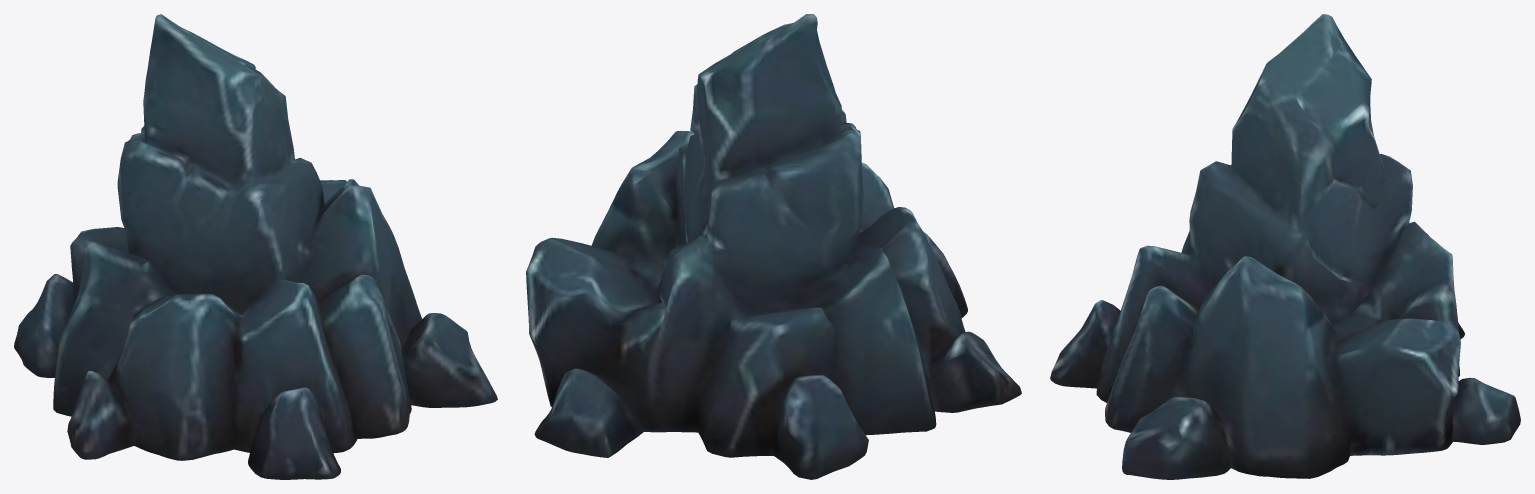
The model's file is sp_rock.glb.
3 renders of one model, left to right at view 1: azimuth 30°, elevation 25°; view 2: azimuth 150°, elevation 25°; view 3: azimuth 270°, elevation 25°, orthographic. The views are drawn at different scales.
Parts seen in each view (by area): view 1: SP_rock; view 2: SP_rock; view 3: SP_rock.
Boxes of the visible parts, <box> form: SP_rock: <box>14,14,497,479</box>; SP_rock: <box>526,14,1021,479</box>; SP_rock: <box>1050,14,1520,479</box>.
Size of the model in its own units: 0.3296 by 0.3011 by 0.3651.
1 material, 1 textured.
